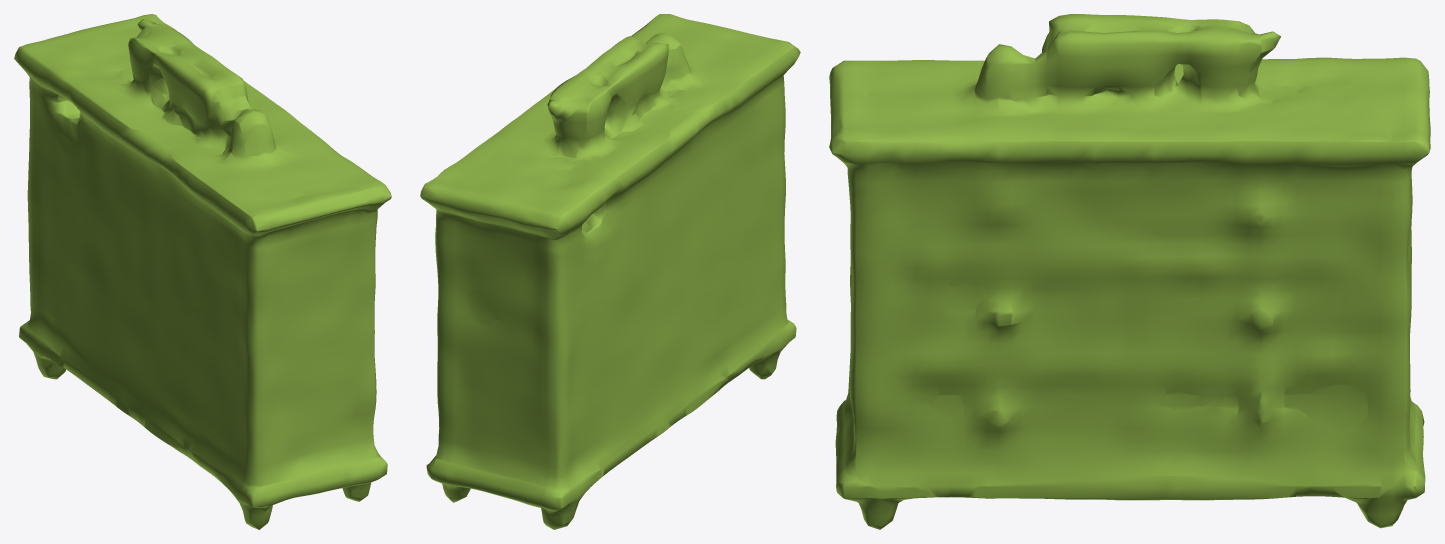
File: cabinet_3_2.obj
3 renders of one model, left to right at view 1: azimuth 30°, elevation 25°; view 2: azimuth 150°, elevation 25°; view 3: azimuth 270°, elevation 25°, orthographic. The views are drawn at different scales.
Size of the model in its own units: 0.2751 by 0.6846 by 0.7897.
